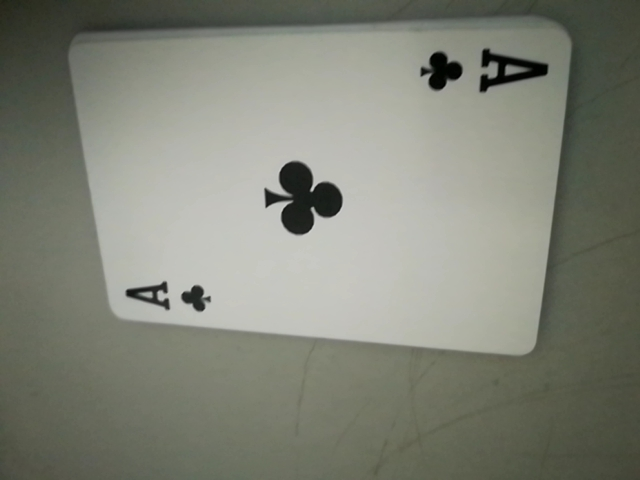mh a: (419, 39, 547, 103), (117, 270, 223, 320)
